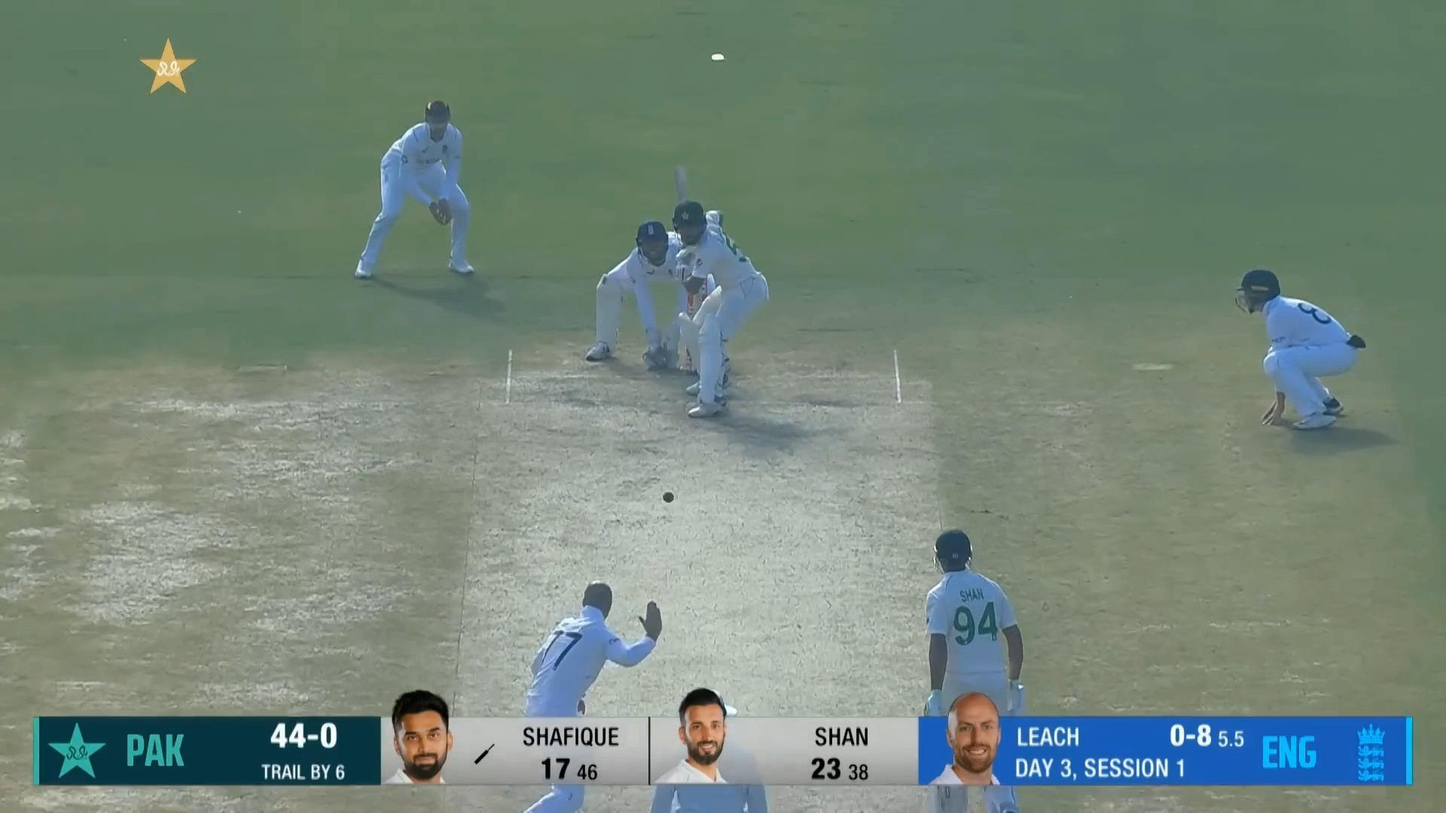BM 1: (674, 160, 769, 418)
BO: (521, 578, 664, 813)
